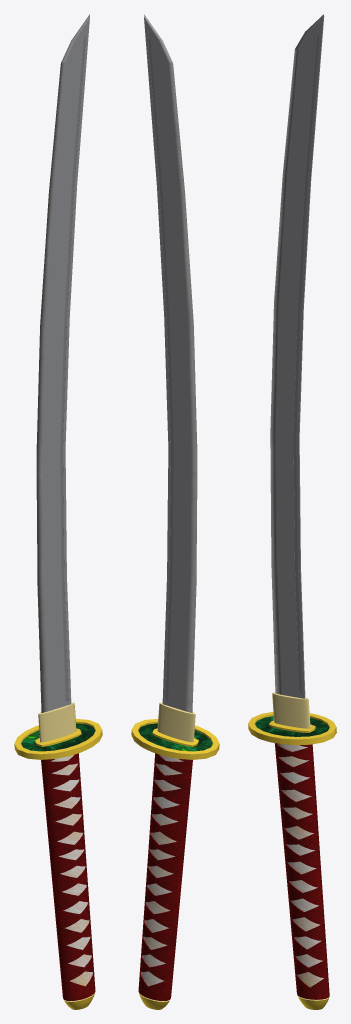
Rendered from katana.glb.
3 renders of one model, left to right at view 1: azimuth 30°, elevation 25°; view 2: azimuth 150°, elevation 25°; view 3: azimuth 330°, elevation 25°, orthographic.
Parts seen in each view (by area): view 1: Box003 (×3), Cylinder003 (×5); view 2: Box003 (×3), Cylinder003 (×5); view 3: Box003 (×3), Cylinder003 (×5).
Part boxes in pixels (box(x1,y1,x2,y2)): Box003 (×3): box(36, 14, 89, 712); Cylinder003 (×5): box(14, 702, 102, 1009); Box003 (×3): box(144, 14, 197, 712); Cylinder003 (×5): box(131, 702, 219, 1009); Box003 (×3): box(270, 14, 324, 698); Cylinder003 (×5): box(248, 692, 336, 1009).
Size of the model in its own units: 0.1722 by 2 by 0.1216.
9 materials, 9 textured.
